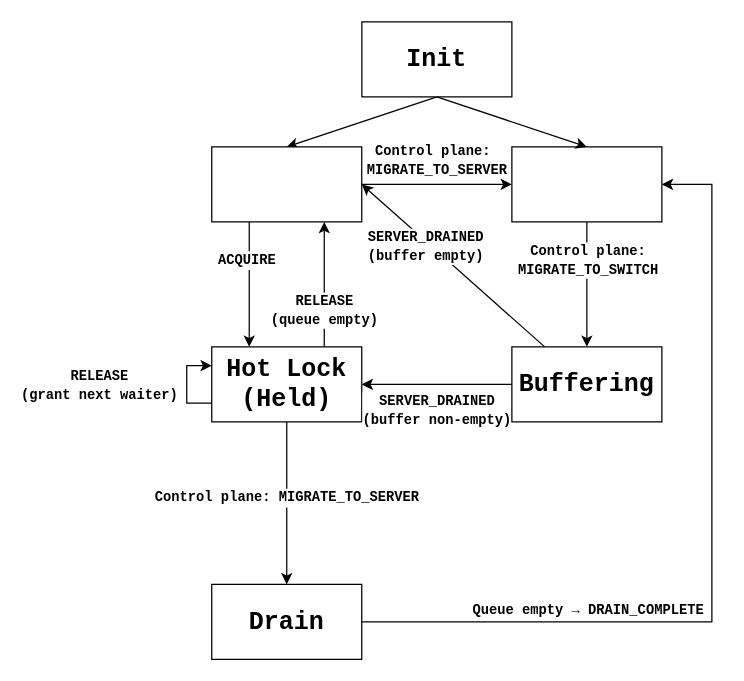
The diagram is 744 pixels wide and 681 high, and some of its shapes have lost their labels. Here are the shapes that lost their labels. From the top down, the box of each, then its label:
(210, 146, 362, 222): Hot Lock (Free)
(511, 146, 662, 222): Cold Lock
